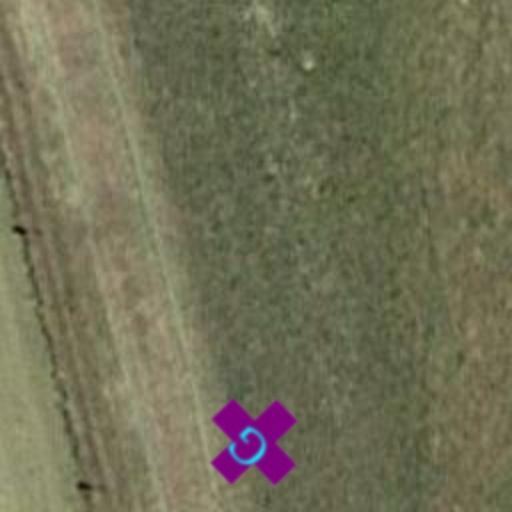cross: (188, 376, 320, 508)
